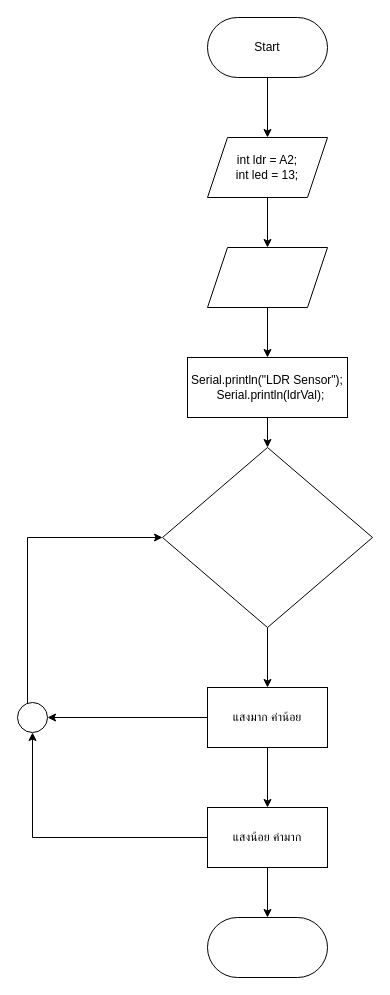
This 390x995 diagram has some shape labels left out. The box of each missing label's shape, as (x1, y1, x2, y2) in pixels:
(ldr, INPUT); (led, OUTPUT);: (206, 246, 328, 308)
End: (206, 916, 328, 978)
if (ldrVal > 400) { digitalWrite(led, HIGH); } else { digitalWrite(led, LOW); }: (162, 446, 372, 628)
